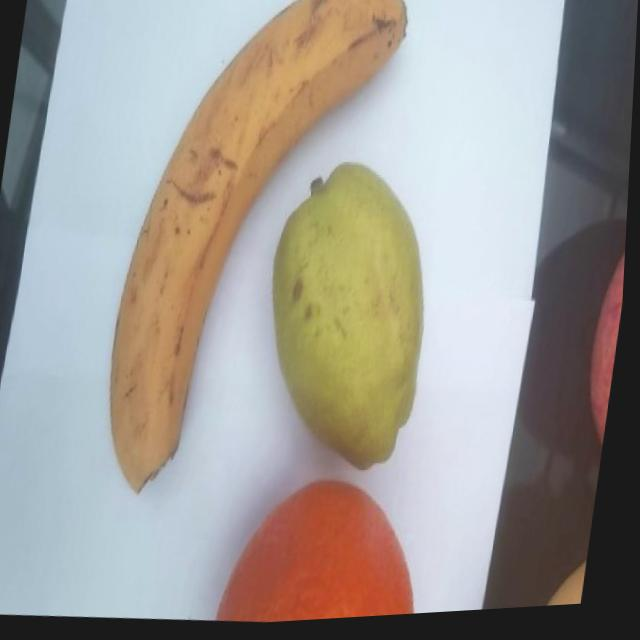Banana: (96, 0, 415, 516)
Orange: (222, 470, 441, 628)
